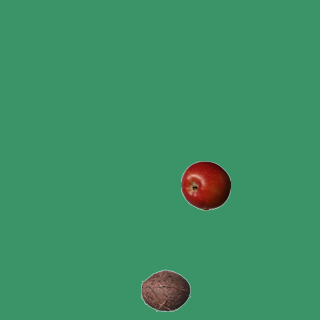Apple Braeburn: (180, 160, 230, 210)
Cocos: (140, 265, 190, 315)
